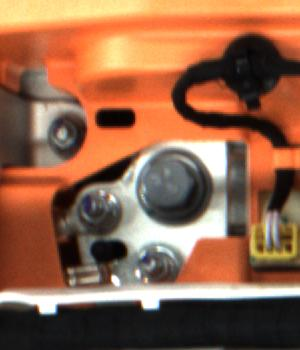nut_b: (136, 148, 213, 227)
screw_s: (72, 189, 122, 230), (134, 247, 177, 284), (46, 117, 77, 154)
